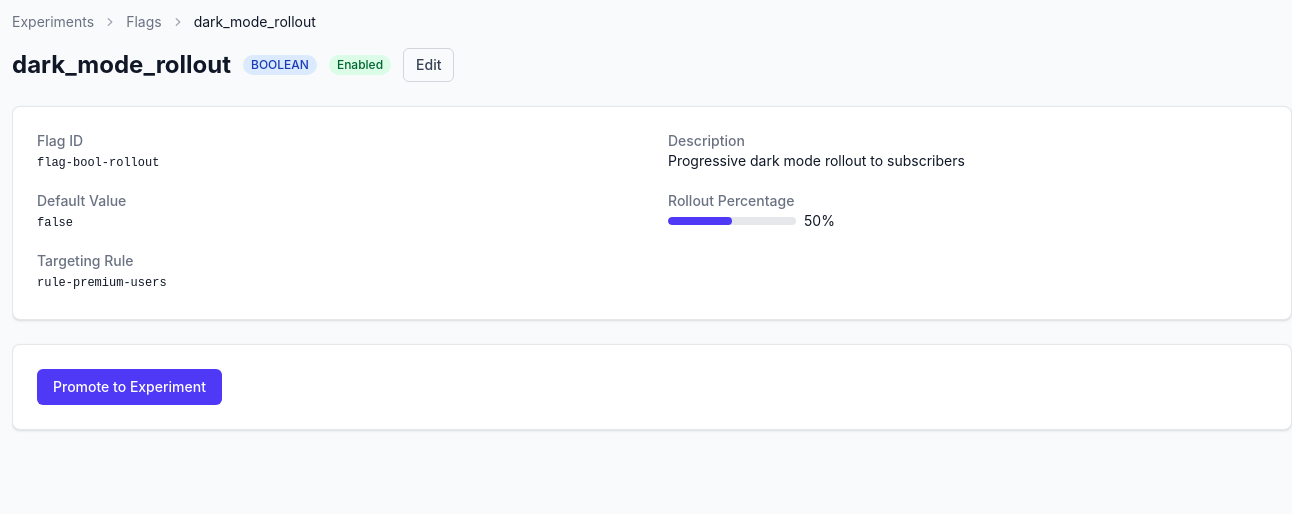
Test: Flag Detail Page › shows promote form when button clicked with focus-visible styling on inputs and selects
Expected: the heading "dark_mode_rollout" is shown, [12,49,231,81]
Click the button with test id "promote-button" at (129, 387), box [37,369,222,405]
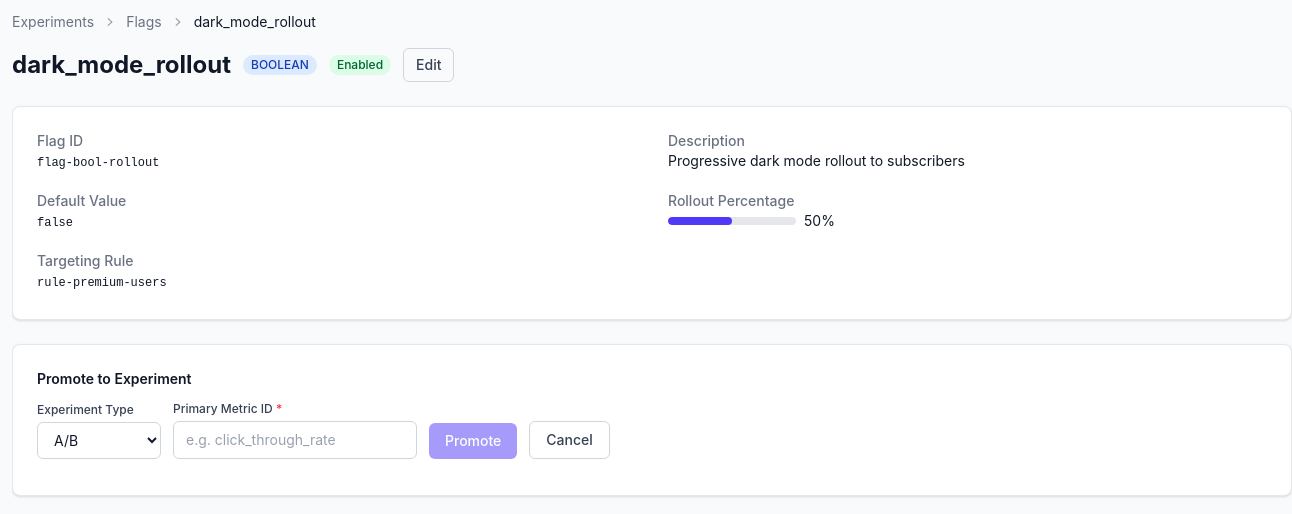
Expected: the form with test id "promote-form" is shown, [37,370,610,459]
Expected: the button with test id "promote-submit" is shown, [429,423,517,459]
